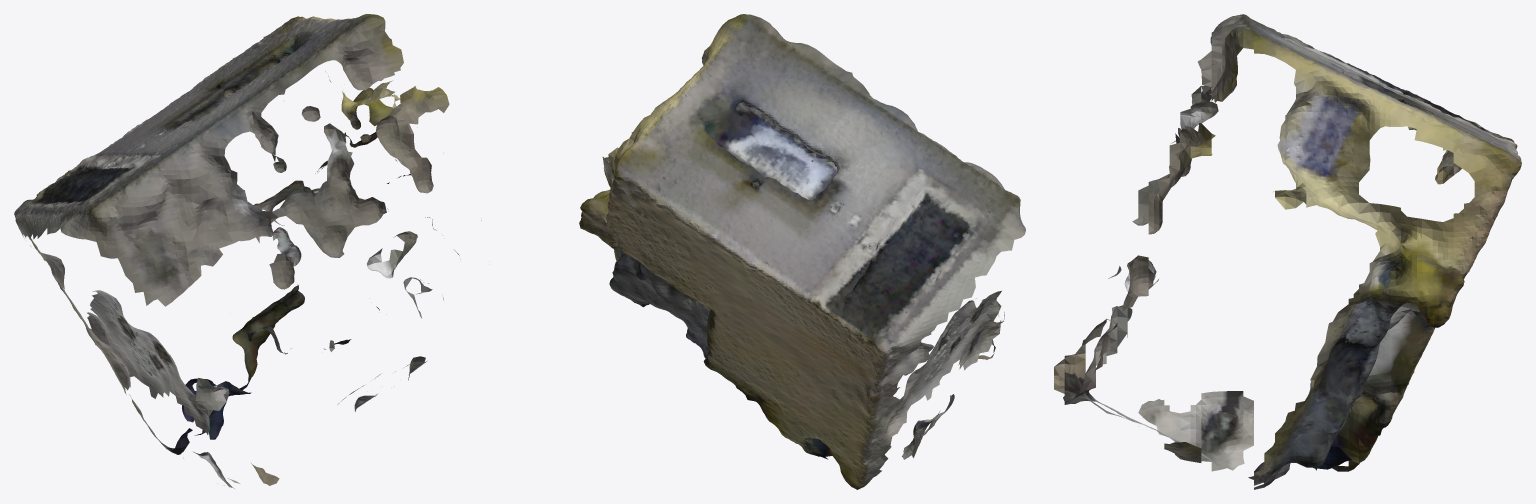
Rendered from room_surface_mesh.glb.
3 views of the same model, side by side, from view 1: azimuth 30°, elevation 25°; view 2: azimuth 150°, elevation 25°; view 3: azimuth 270°, elevation 25° (orthographic). The views are drawn at different scales.
Parts seen in each view (by area): view 1: geometry_0; view 2: geometry_0; view 3: geometry_0.
Boxes of the visible parts, left/top/right/bottom form: geometry_0: left=14, top=14, right=481, bottom=488; geometry_0: left=579, top=14, right=1025, bottom=489; geometry_0: left=1054, top=14, right=1521, bottom=489.
Bounding box in the file's own units: 5.93 × 5.51 × 4.36.
